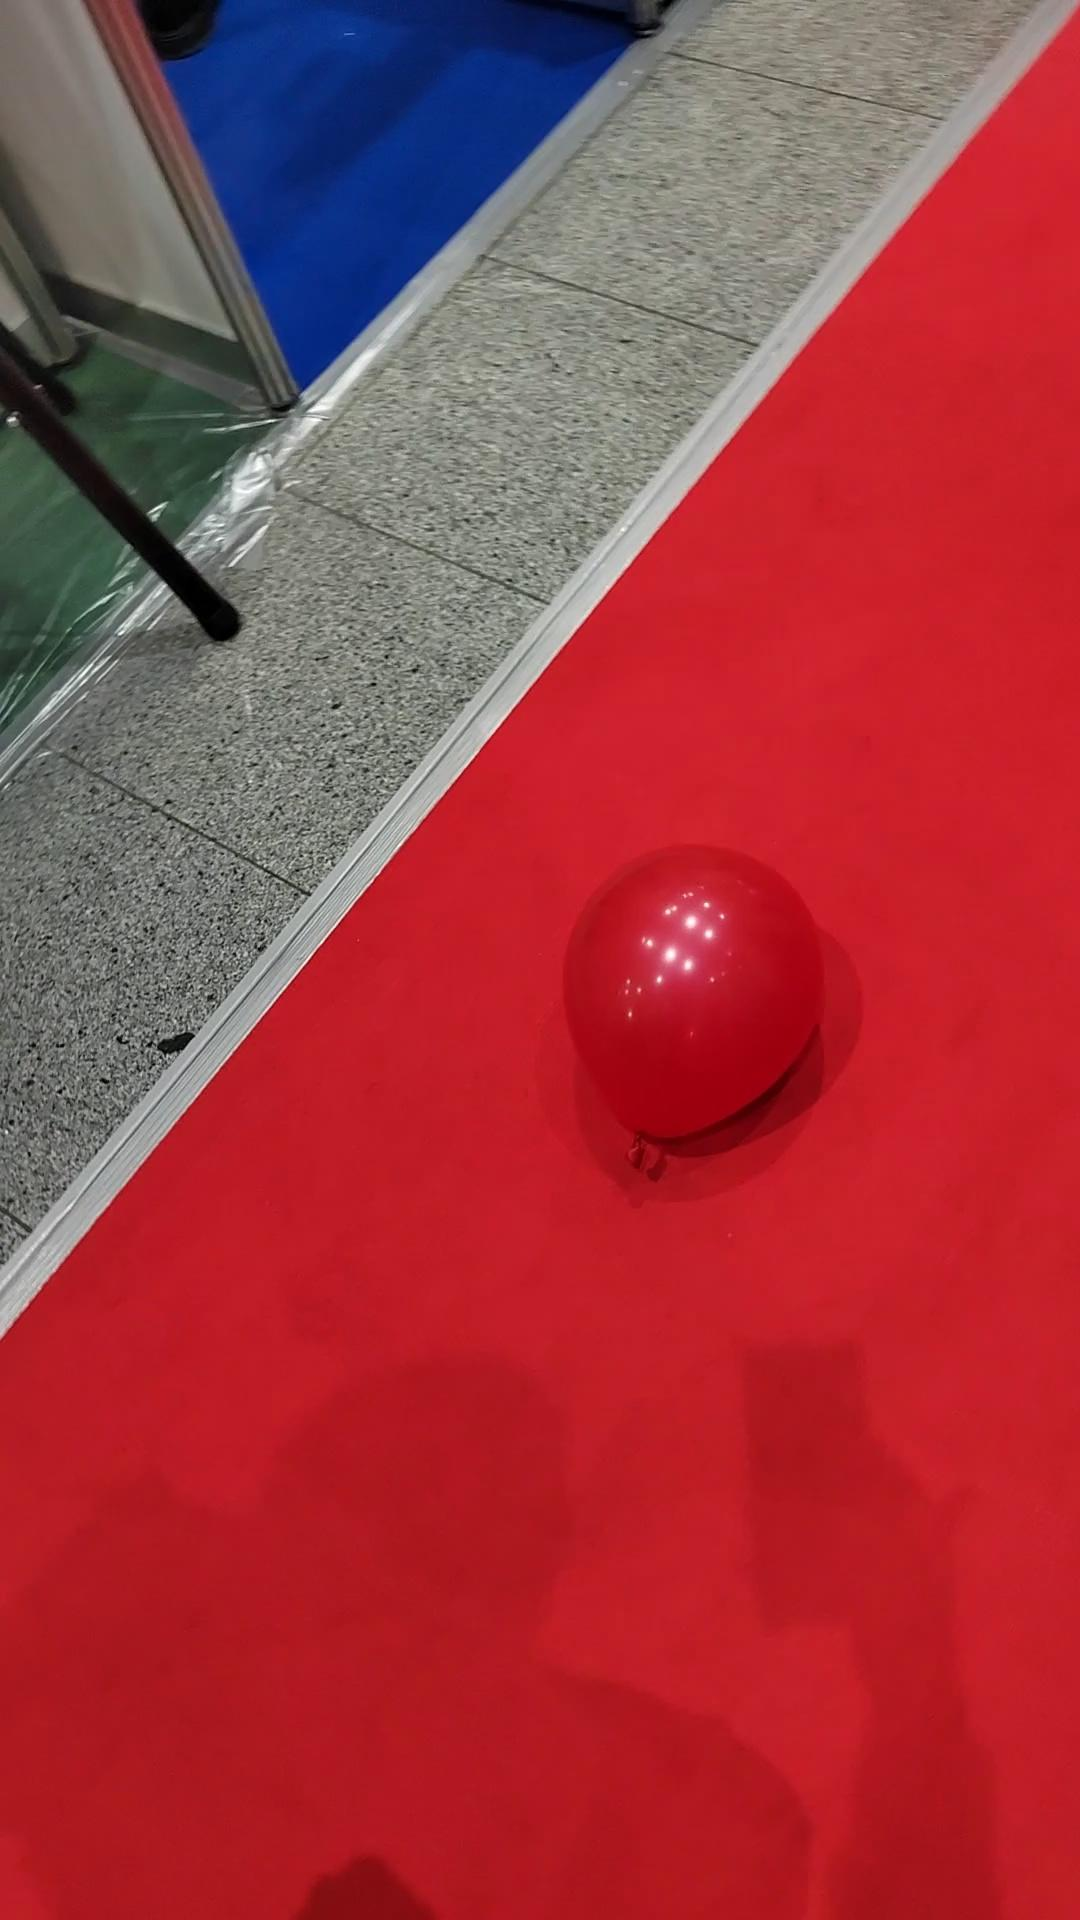red: (562, 845, 823, 1149)
